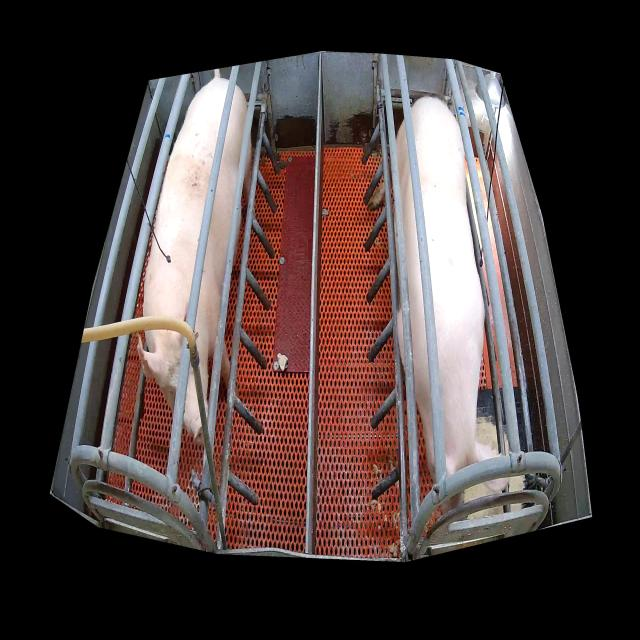pig: (138, 79, 252, 446), (396, 97, 499, 484)
